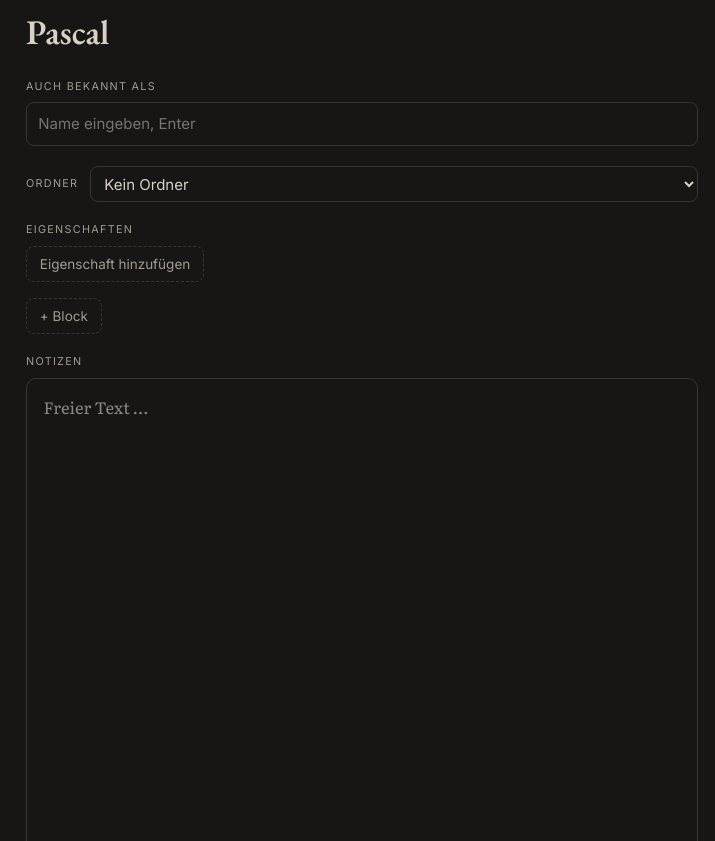
Scenario: an entry changed elsewhere while typing here is not overwritten; my version becomes its own entry
This screenshot has width=715, height=841.
Type "ss" into the field named "Name" at (362, 33), box 26,8 -> 698,59
(page scrolled)
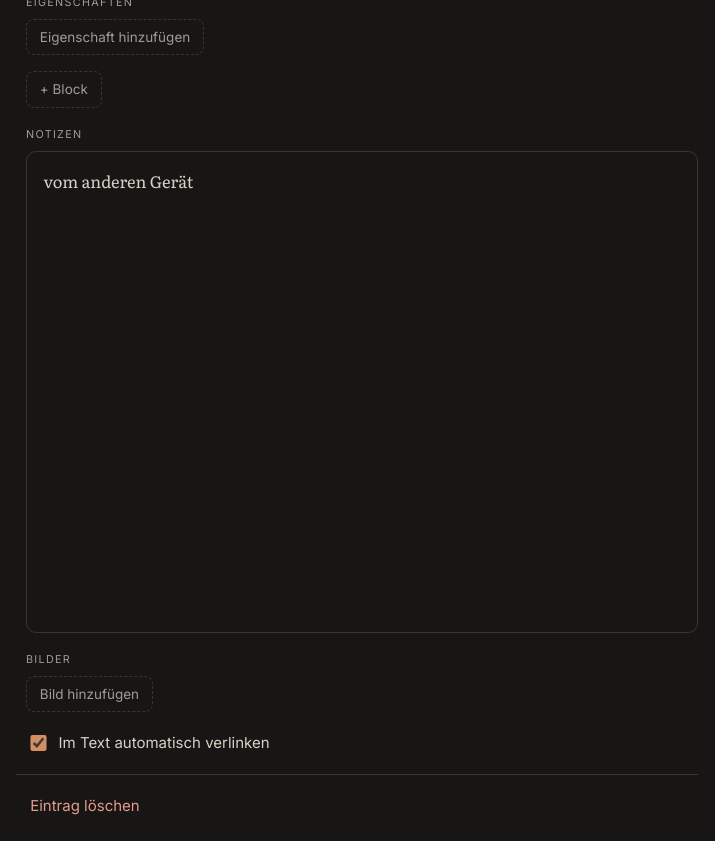
Result: the field named "Notizen" reads "vom anderen Gerät" at 44,169 -> 193,193
